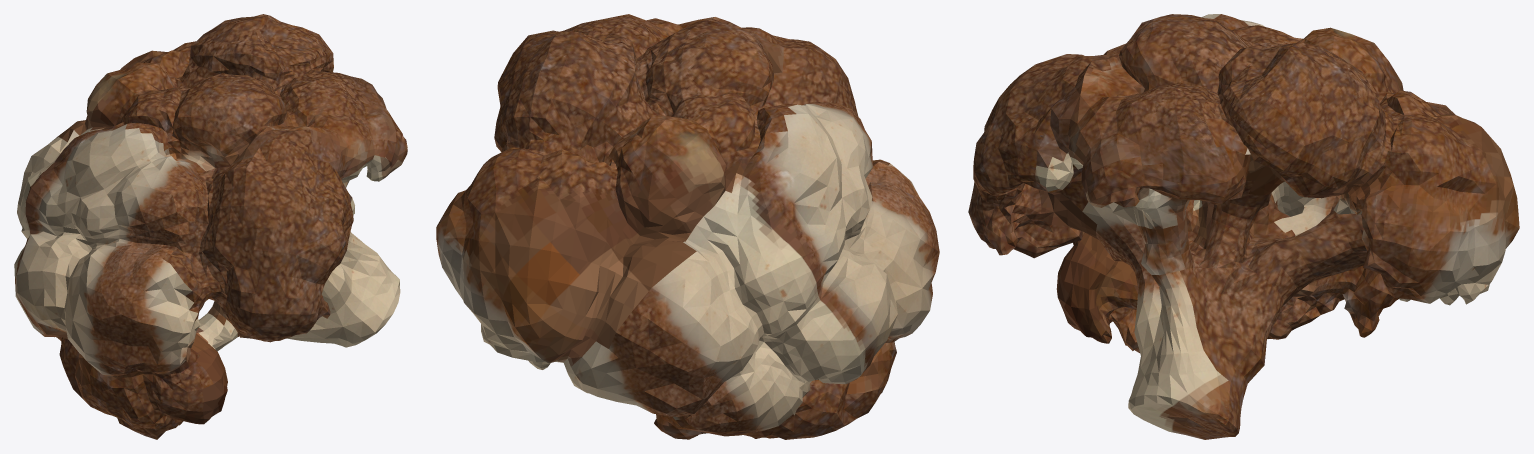
File: MUDKMM9VBBIXWVSON3ARY3JTT.obj
3 views of the same model, side by side, from view 1: azimuth 30°, elevation 25°; view 2: azimuth 150°, elevation 25°; view 3: azimuth 270°, elevation 25° (orthographic). The views are drawn at different scales.
Parts seen in each view (by area): view 1: Object_TexMap; view 2: Object_TexMap; view 3: Object_TexMap.
Boxes of the visible parts, box(x1,y1,x2,y2) form: Object_TexMap: box(14, 14, 407, 439); Object_TexMap: box(436, 14, 939, 439); Object_TexMap: box(968, 14, 1519, 439).
Size of the model in its own units: 2.2 by 2.01 by 2.5.
